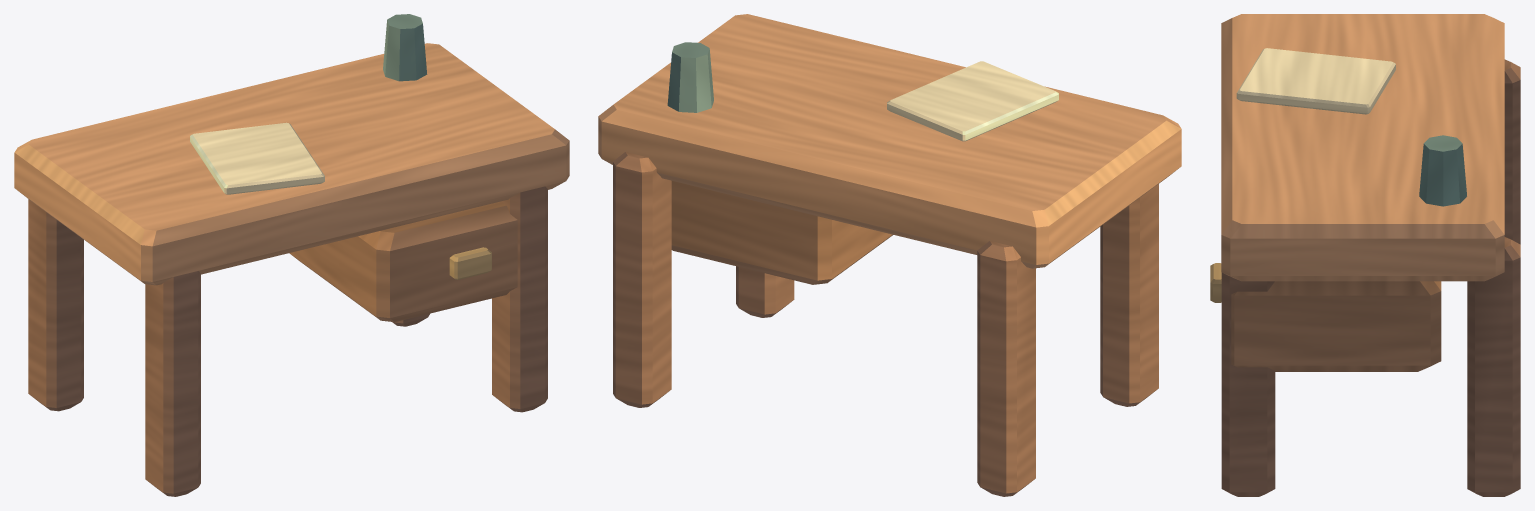
The model's file is furniture_desk.glb.
3 renders of one model, left to right at view 1: azimuth 30°, elevation 25°; view 2: azimuth 150°, elevation 25°; view 3: azimuth 270°, elevation 25°, orthographic. The views are drawn at different scales.
Parts seen in each view (by area): view 1: Schreibtisch; view 2: Schreibtisch; view 3: Schreibtisch.
Boxes of the visible parts, left/top/right/bottom form: Schreibtisch: left=14, top=14, right=569, bottom=496; Schreibtisch: left=598, top=14, right=1181, bottom=496; Schreibtisch: left=1210, top=14, right=1520, bottom=496.
Bounding box in the file's own units: 1.36 × 0.973 × 0.813.
2 materials, 2 textured.
